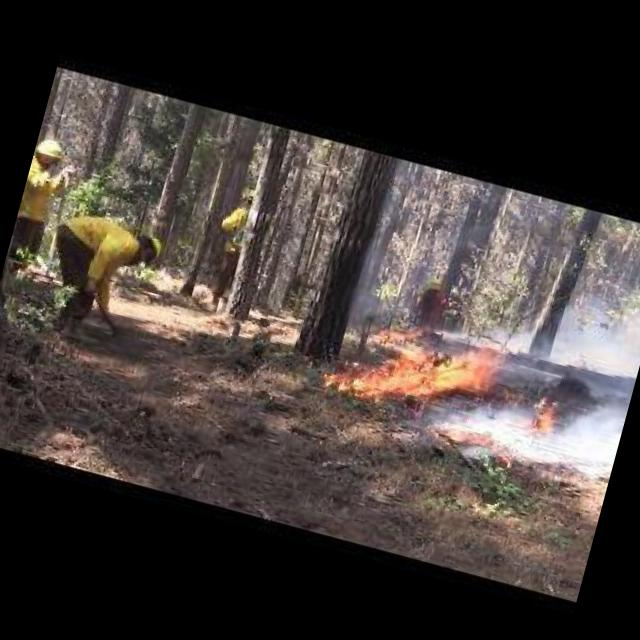fire: (318, 306, 508, 431), (436, 426, 518, 468), (373, 316, 427, 353), (530, 407, 562, 440)
